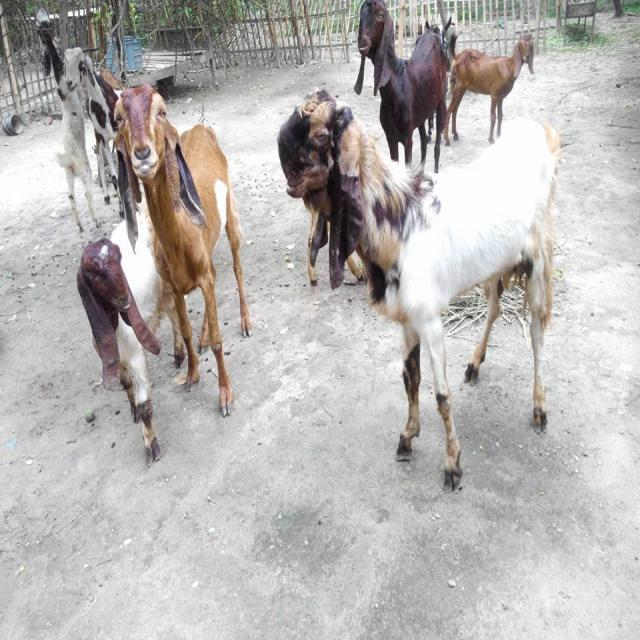Goat: (276, 87, 565, 492), (111, 82, 251, 417), (36, 18, 122, 231), (352, 0, 450, 173), (443, 28, 535, 144)
